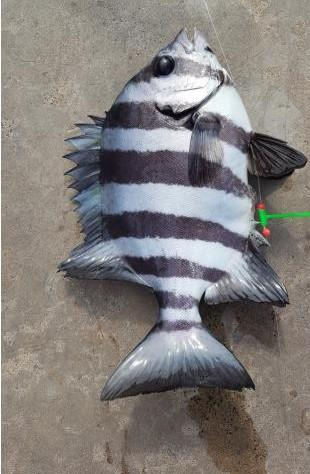fish: (59, 29, 304, 398)
